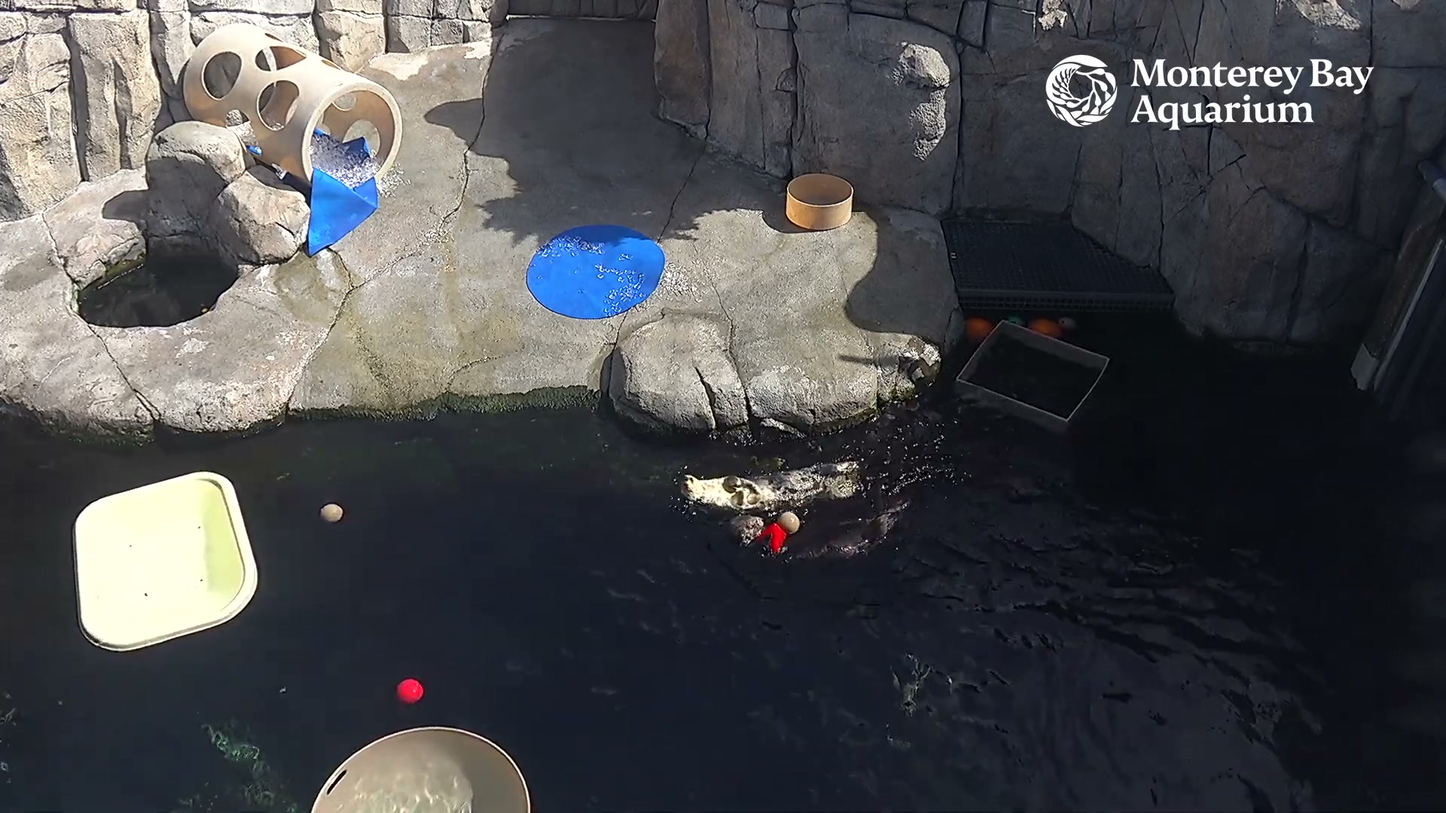Southern Sea Otter: (510, 408, 839, 539)
